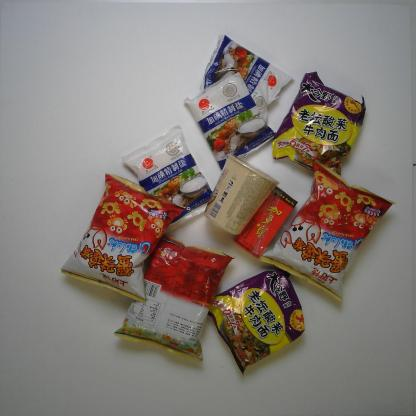Drink: (233, 184, 298, 259)
Instant Noodles: (203, 266, 307, 376), (271, 72, 368, 180), (203, 154, 280, 236)
Puffed Food: (255, 160, 396, 302), (58, 172, 188, 304), (111, 232, 234, 362)
Seasoner: (120, 123, 214, 230), (183, 71, 276, 174), (199, 32, 294, 127)
